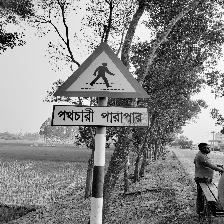Pedestrian-crossing: (52, 43, 151, 128)
